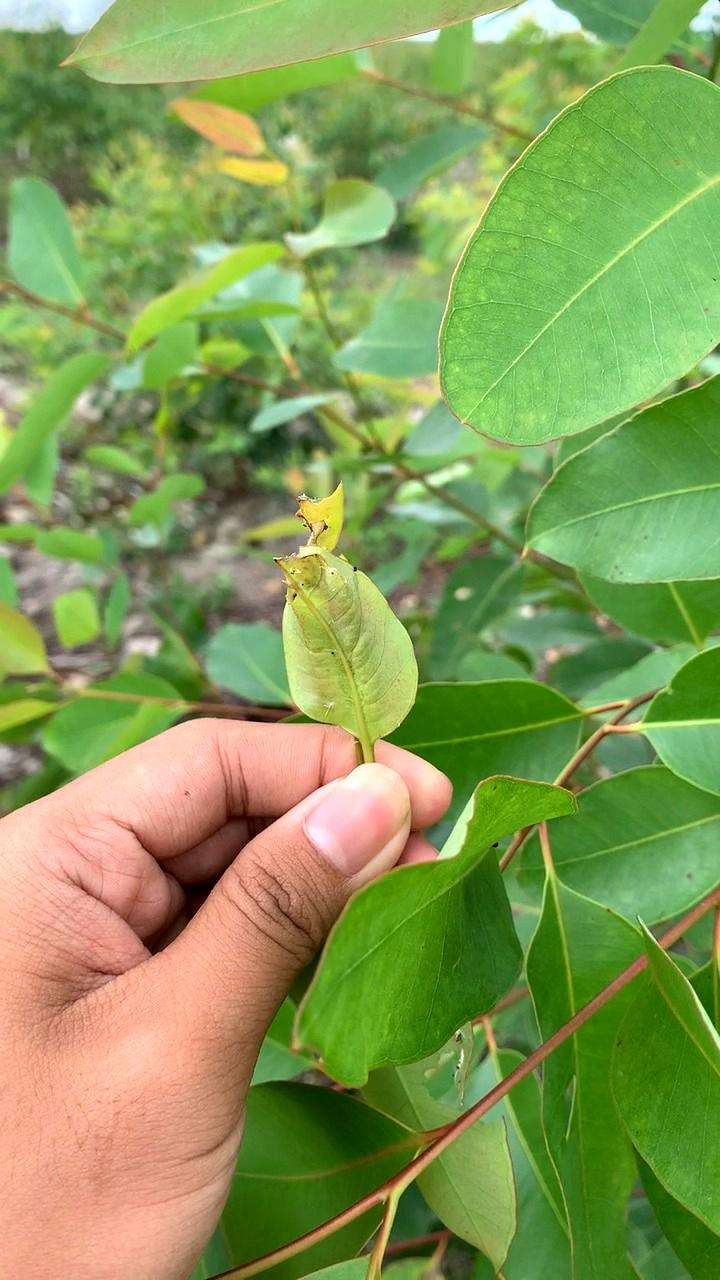Leaf Roller - Leaf: (270, 490, 427, 751)
